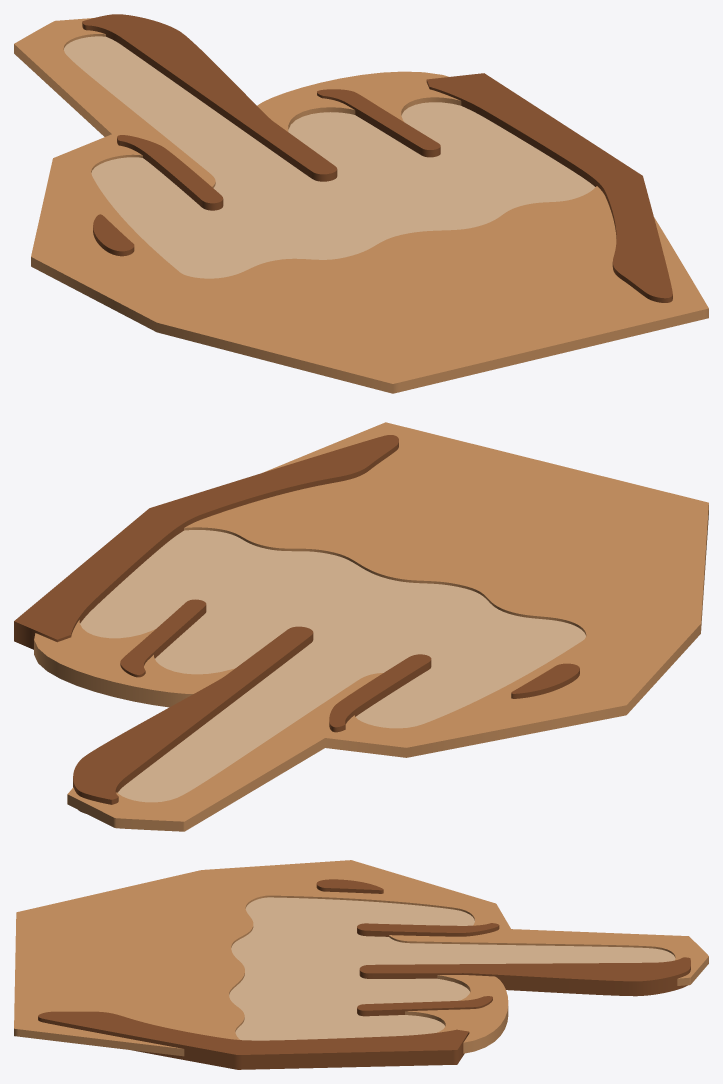
File: emoji_u1f595_1f3fc.glb
3 renders of one model, top to bottom at view 1: azimuth 30°, elevation 25°; view 2: azimuth 150°, elevation 25°; view 3: azimuth 270°, elevation 25°, orthographic. The views are drawn at different scales.
Visible parts, largest first — view 1: emoji_u1f595_1f3fc; view 2: emoji_u1f595_1f3fc; view 3: emoji_u1f595_1f3fc.
Boxes of the visible parts, <box> form: emoji_u1f595_1f3fc: <box>14,14,708,393</box>; emoji_u1f595_1f3fc: <box>14,422,708,831</box>; emoji_u1f595_1f3fc: <box>14,860,708,1069</box>.
Bounding box in the file's own units: 0.0231 × 0.0008 × 0.0341.
